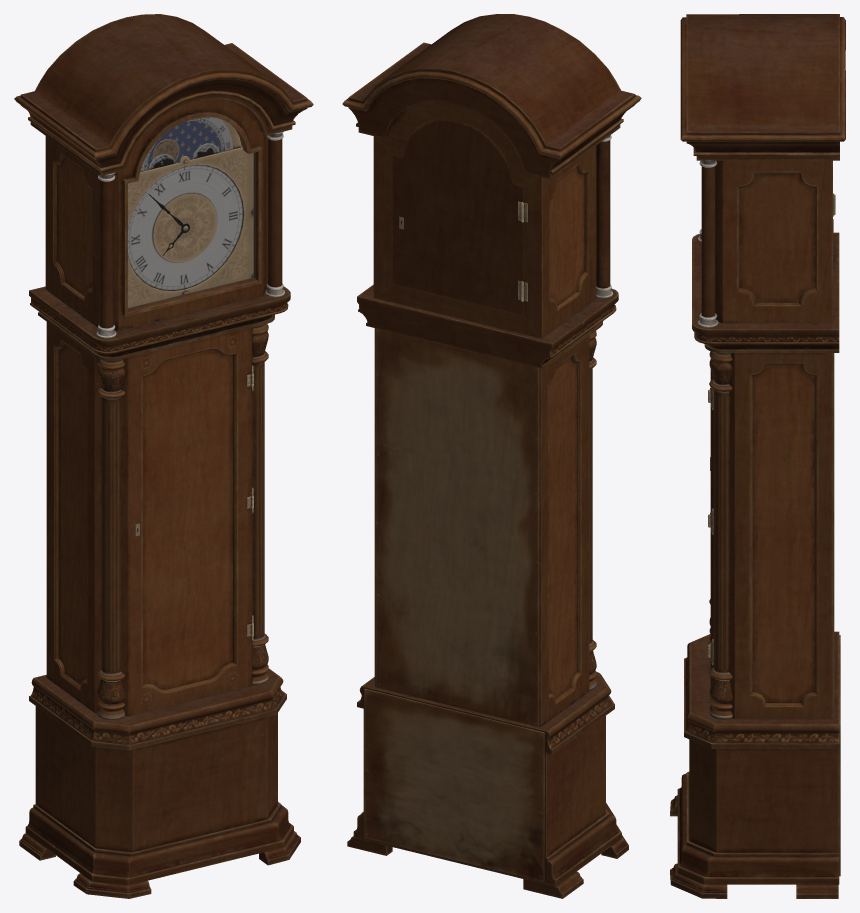
The model's file is vintage_grandfather_clock_01_2k.fbx.
The picture shows the model from 3 angles, left to right: view 1: azimuth 30°, elevation 25°; view 2: azimuth 150°, elevation 25°; view 3: azimuth 270°, elevation 25°; orthographic projection. The views are drawn at different scales.
Parts seen in each view (by area): view 1: vintage_grandfather_clock_01_Body; view 2: vintage_grandfather_clock_01_Body; view 3: vintage_grandfather_clock_01_Body.
Boxes of the visible parts, x1,y1,x2,y2 form: vintage_grandfather_clock_01_Body: (14,14,313,898); vintage_grandfather_clock_01_Body: (342,14,641,898); vintage_grandfather_clock_01_Body: (670,14,845,898).
Bounding box in the file's own units: 62.56 × 219 × 42.66.
2 materials, 1 textured.
